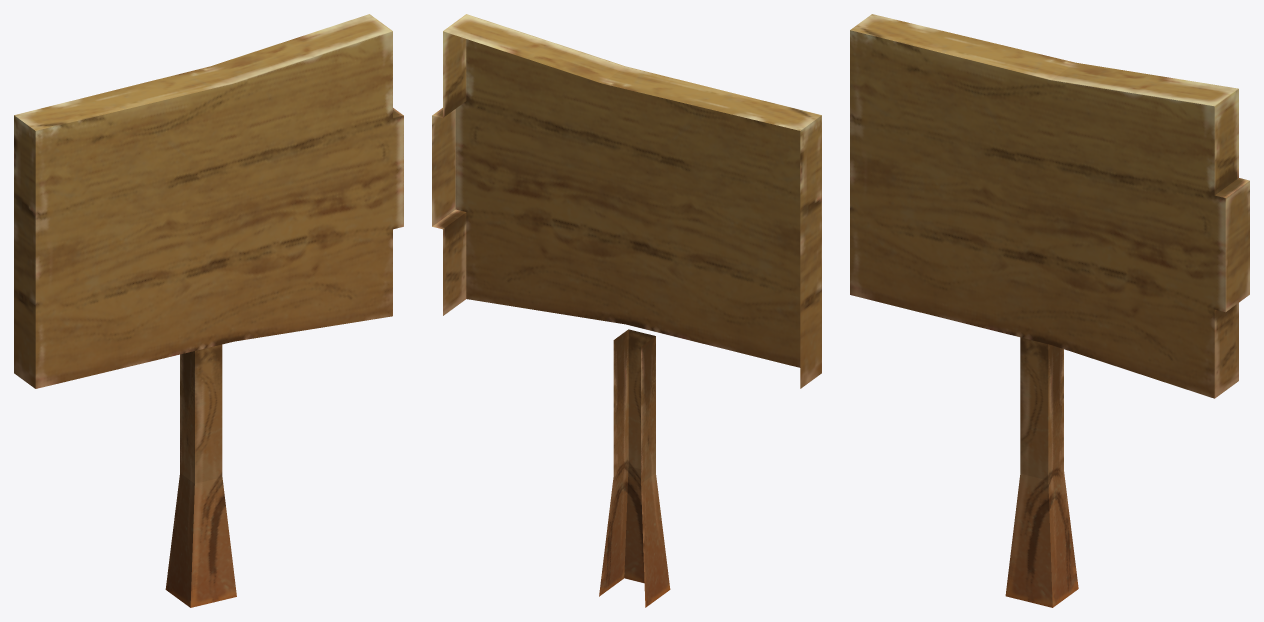
Rendered from PlatformDeco_Sign.fbx.
3 renders of one model, left to right at view 1: azimuth 30°, elevation 25°; view 2: azimuth 150°, elevation 25°; view 3: azimuth 330°, elevation 25°, orthographic. The views are drawn at different scales.
Parts seen in each view (by area): view 1: Deco_Sign; view 2: Deco_Sign; view 3: Deco_Sign.
Part boxes in pixels (x1=…): Deco_Sign: x1=14, y1=14, x2=403, y2=607; Deco_Sign: x1=432, y1=14, x2=821, y2=607; Deco_Sign: x1=850, y1=14, x2=1249, y2=607.
Bounding box in the file's own units: 98.27 × 135 × 11.74.
